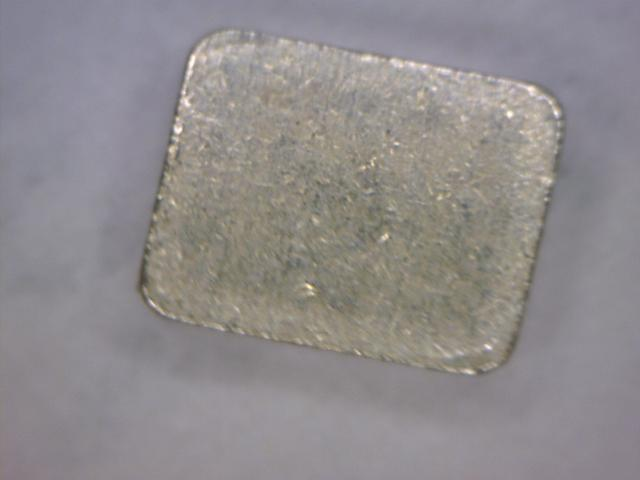ok: (131, 26, 573, 385)
